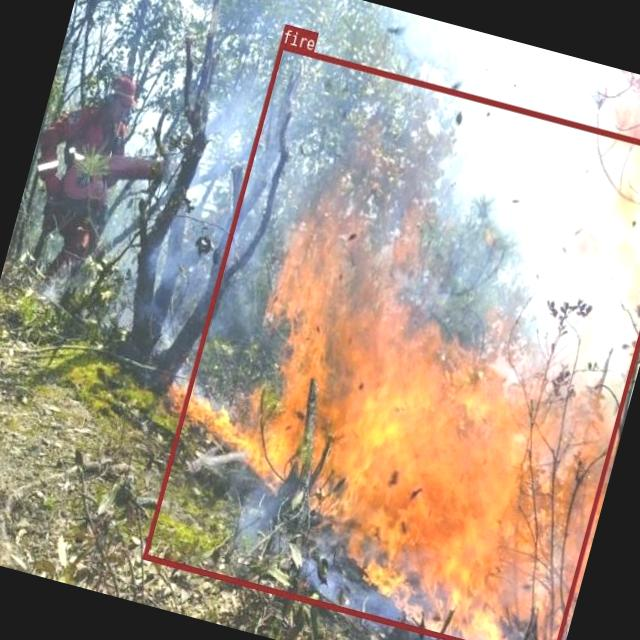fire: (141, 41, 640, 640)
